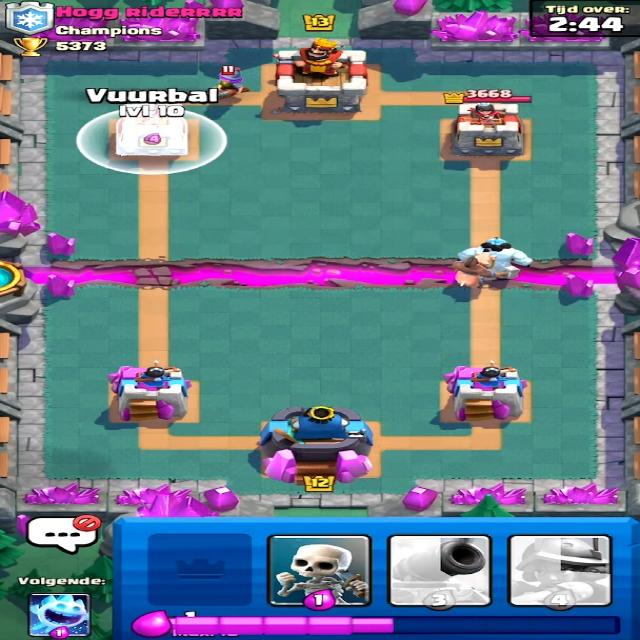Cannon_Card: (394, 535, 492, 607)
Enemy_Musketeer_Troop: (200, 67, 262, 113)
Hog_Rider_Troop: (446, 256, 513, 286)
Ice_Golem_Troop: (454, 239, 540, 285)
Musketeer_Card: (515, 538, 614, 607)
Skeleton_Card: (271, 534, 370, 606)
